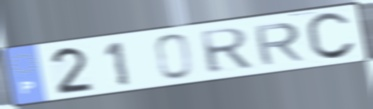0: (152, 31, 198, 82)
1: (103, 40, 132, 88)
2: (48, 45, 97, 98)
C: (304, 11, 359, 63)
R: (197, 25, 256, 76), (251, 20, 307, 68)
